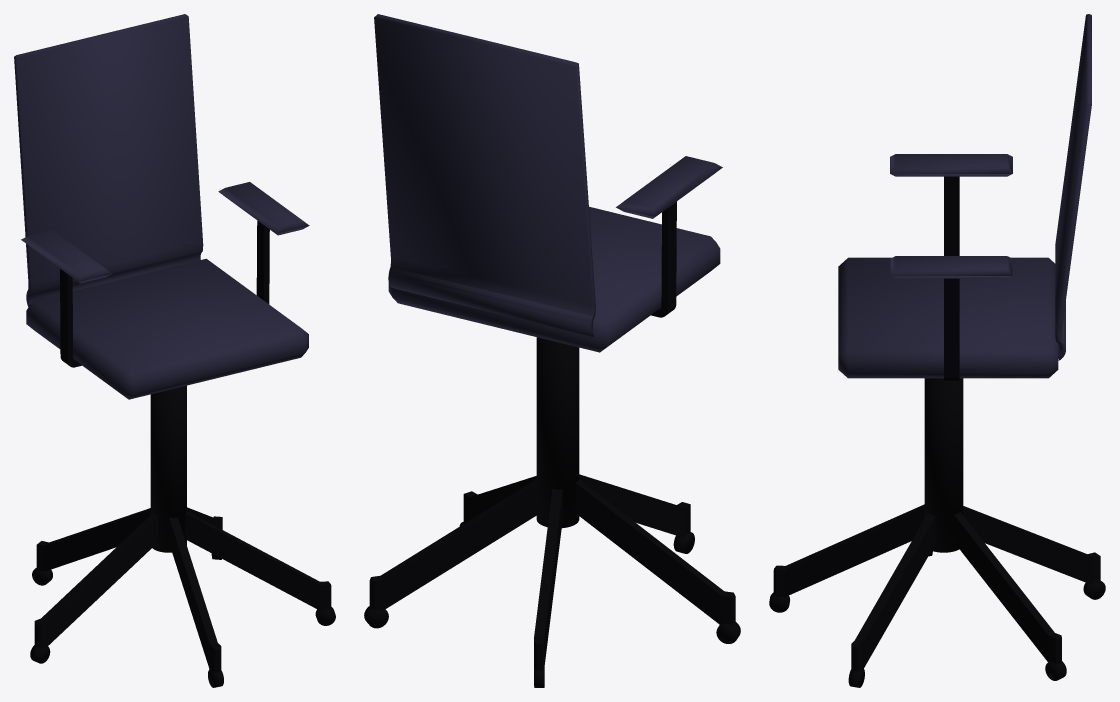
File: deskchair.glb
3 renders of one model, left to right at view 1: azimuth 30°, elevation 25°; view 2: azimuth 150°, elevation 25°; view 3: azimuth 270°, elevation 25°, orthographic. The views are drawn at different scales.
Visible parts, largest first — view 1: Cube.001, Cube, Cylinder, Leg.001, Leg.004, Leg.003, Leg, Cube.004, Cube.005, Cube.003, Cube.002; view 2: Cube.001, Cube, Cylinder, Leg.002, Leg.004, Cube.005, Leg, Leg.003, Cube.003, Leg.001; view 3: Cube, Cylinder, Cube.001, Leg, Leg.002, Leg.003, Leg.001, Cube.004, Cube.005, Cube.002, Cube.003.
Part boxes in pixels (left/top/right/bottom): Cube.001: left=14, top=14, right=203, bottom=306; Cube: left=26, top=258, right=308, bottom=399; Cylinder: left=150, top=385, right=186, bottom=552; Leg.001: left=185, top=511, right=331, bottom=610; Leg.004: left=34, top=513, right=158, bottom=648; Leg.003: left=36, top=508, right=150, bottom=571; Leg: left=169, top=517, right=221, bottom=672; Cube.004: left=218, top=182, right=309, bottom=235; Cube.005: left=21, top=230, right=111, bottom=283; Cube.003: left=60, top=269, right=81, bottom=367; Cube.002: left=256, top=220, right=269, bottom=304; Cube.001: left=374, top=14, right=595, bottom=336; Cube: left=388, top=206, right=720, bottom=352; Cylinder: left=536, top=337, right=579, bottom=528; Leg.002: left=369, top=479, right=539, bottom=611; Leg.004: left=575, top=479, right=735, bottom=626; Cube.005: left=616, top=156, right=722, bottom=218; Leg: left=579, top=474, right=690, bottom=537; Leg.003: left=534, top=489, right=562, bottom=670; Cube.003: left=651, top=201, right=676, bottom=317; Leg.001: left=463, top=476, right=536, bottom=523; Cube: left=838, top=257, right=1058, bottom=378; Cylinder: left=924, top=378, right=963, bottom=552; Cube.001: left=1055, top=14, right=1091, bottom=360; Leg: left=773, top=504, right=924, bottom=597; Leg.002: left=954, top=512, right=1061, bottom=665; Leg.003: left=963, top=506, right=1100, bottom=584; Leg.001: left=851, top=512, right=935, bottom=672; Cube.004: left=890, top=256, right=1012, bottom=278; Cube.005: left=890, top=154, right=1012, bottom=176; Cube.002: left=944, top=278, right=959, bottom=380; Cube.003: left=944, top=176, right=959, bottom=255.
Bounding box in the file's own units: 5.4 × 10.23 × 5.48.
